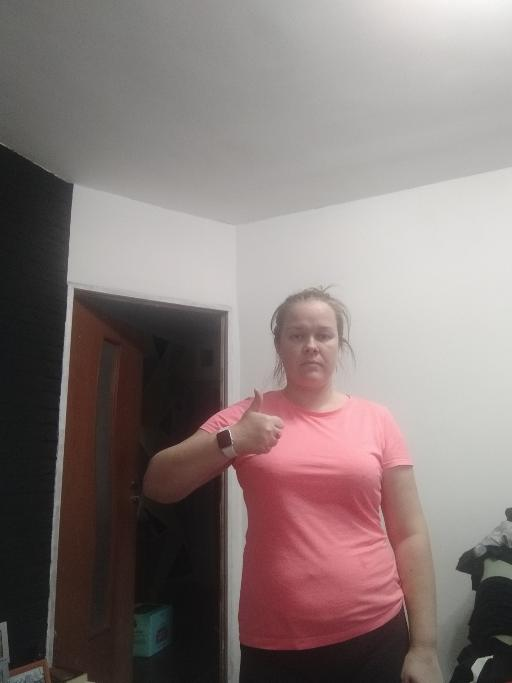like: (231, 386, 285, 459)
